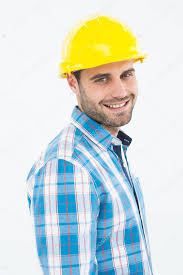Person_wearing_helmet: (54, 10, 150, 100)
